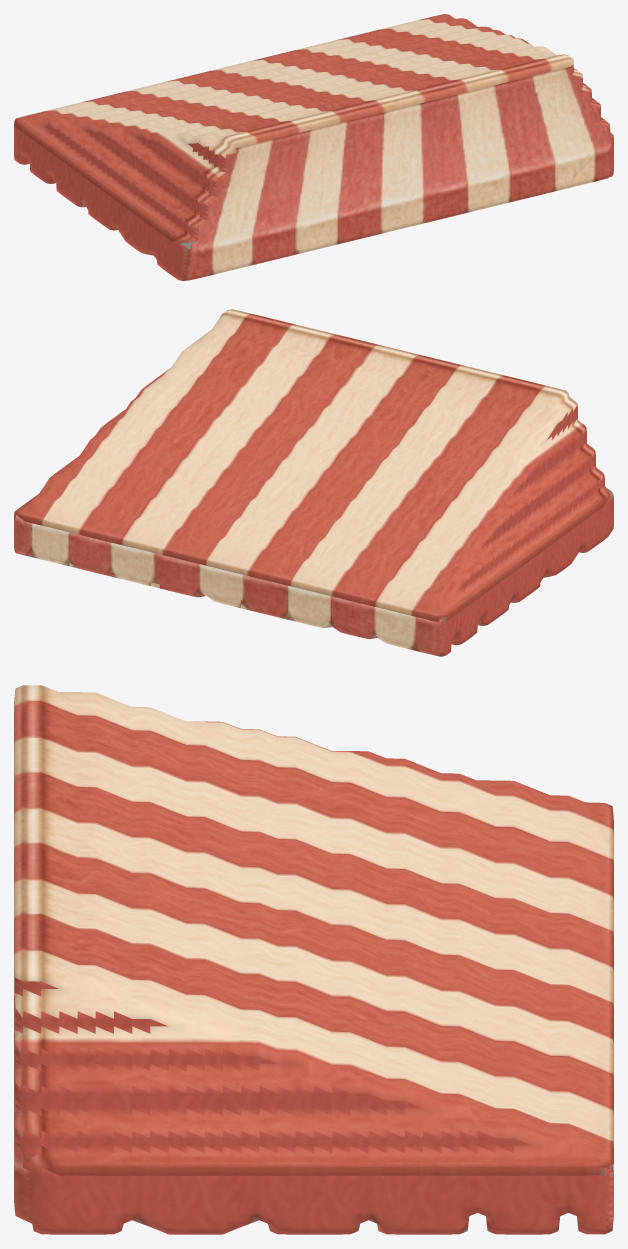
File: awning.glb
The picture shows the model from 3 angles, top to bottom: view 1: azimuth 30°, elevation 25°; view 2: azimuth 150°, elevation 25°; view 3: azimuth 270°, elevation 25°; orthographic projection. The views are drawn at different scales.
Bounding box in the file's own units: 3.3 × 0.9989 × 2.29.
Materials: 1 (1 with a texture image).
